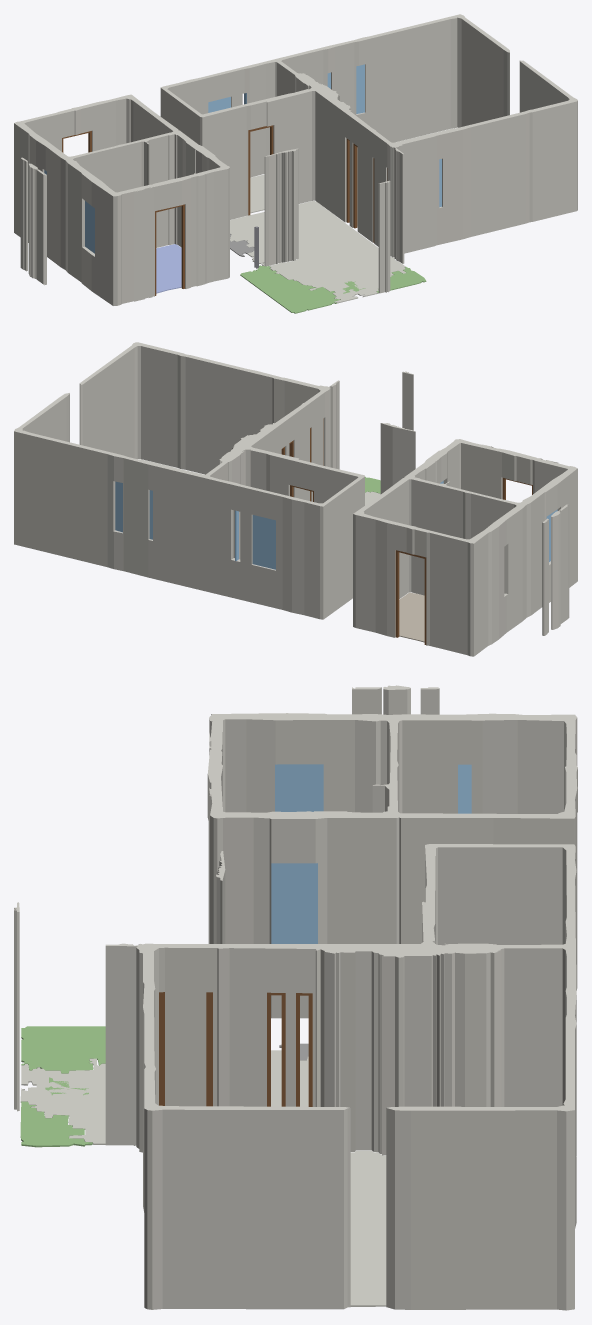
3 views of the same model, one above another, from view 1: azimuth 30°, elevation 25°; view 2: azimuth 150°, elevation 25°; view 3: azimuth 270°, elevation 25° (orthographic). The views are drawn at different scales.
Parts seen in each view (by area): view 1: walls, floor_9_Undefined, floor_2_Outdoor, floor_4_Bed_Room, door_4, floor_12_Undefined, floor_0_Outdoor, window_12, window_10, door_1, door_3; view 2: walls, window_8, floor_6_Storage, door_0; view 3: walls, floor_11_Undefined, floor_9_Undefined, window_13, floor_2_Outdoor, window_12, floor_0_Outdoor, door_3, door_2, door_5.
Part boxes in pixels (x1=…): walls: x1=14, y1=14, x2=577, y2=305; floor_9_Undefined: x1=230, y1=201, x2=405, y2=303; floor_2_Outdoor: x1=240, y1=265, x2=340, y2=313; floor_4_Bed_Room: x1=156, y1=244, x2=181, y2=293; door_4: x1=155, y1=204, x2=184, y2=295; floor_12_Undefined: x1=250, y1=174, x2=264, y2=213; floor_0_Outdoor: x1=376, y1=267, x2=426, y2=293; window_12: x1=85, y1=201, x2=94, y2=253; window_10: x1=356, y1=64, x2=364, y2=113; door_1: x1=248, y1=125, x2=273, y2=215; door_3: x1=353, y1=143, x2=357, y2=228; walls: x1=14, y1=342, x2=577, y2=656; window_8: x1=252, y1=515, x2=275, y2=569; floor_6_Storage: x1=399, y1=592, x2=424, y2=642; door_0: x1=395, y1=550, x2=426, y2=644; walls: x1=14, y1=685, x2=577, y2=1310; floor_11_Undefined: x1=350, y1=1150, x2=386, y2=1306; floor_9_Undefined: x1=20, y1=1050, x2=308, y2=1145; window_13: x1=271, y1=863, x2=317, y2=943; floor_2_Outdoor: x1=21, y1=1026, x2=105, y2=1073; window_12: x1=275, y1=764, x2=323, y2=811; floor_0_Outdoor: x1=20, y1=1101, x2=92, y2=1147; door_3: x1=267, y1=992, x2=285, y2=1106; door_2: x1=296, y1=993, x2=312, y2=1106; door_5: x1=206, y1=992, x2=212, y2=1106.
Size of the model in its own units: 12.38 by 2.72 by 6.93.
